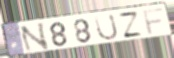8: (49, 21, 70, 48), (73, 18, 94, 44)
F: (141, 7, 165, 36)
N: (18, 21, 51, 55)
U: (93, 13, 120, 42)
Z: (117, 10, 145, 39)
